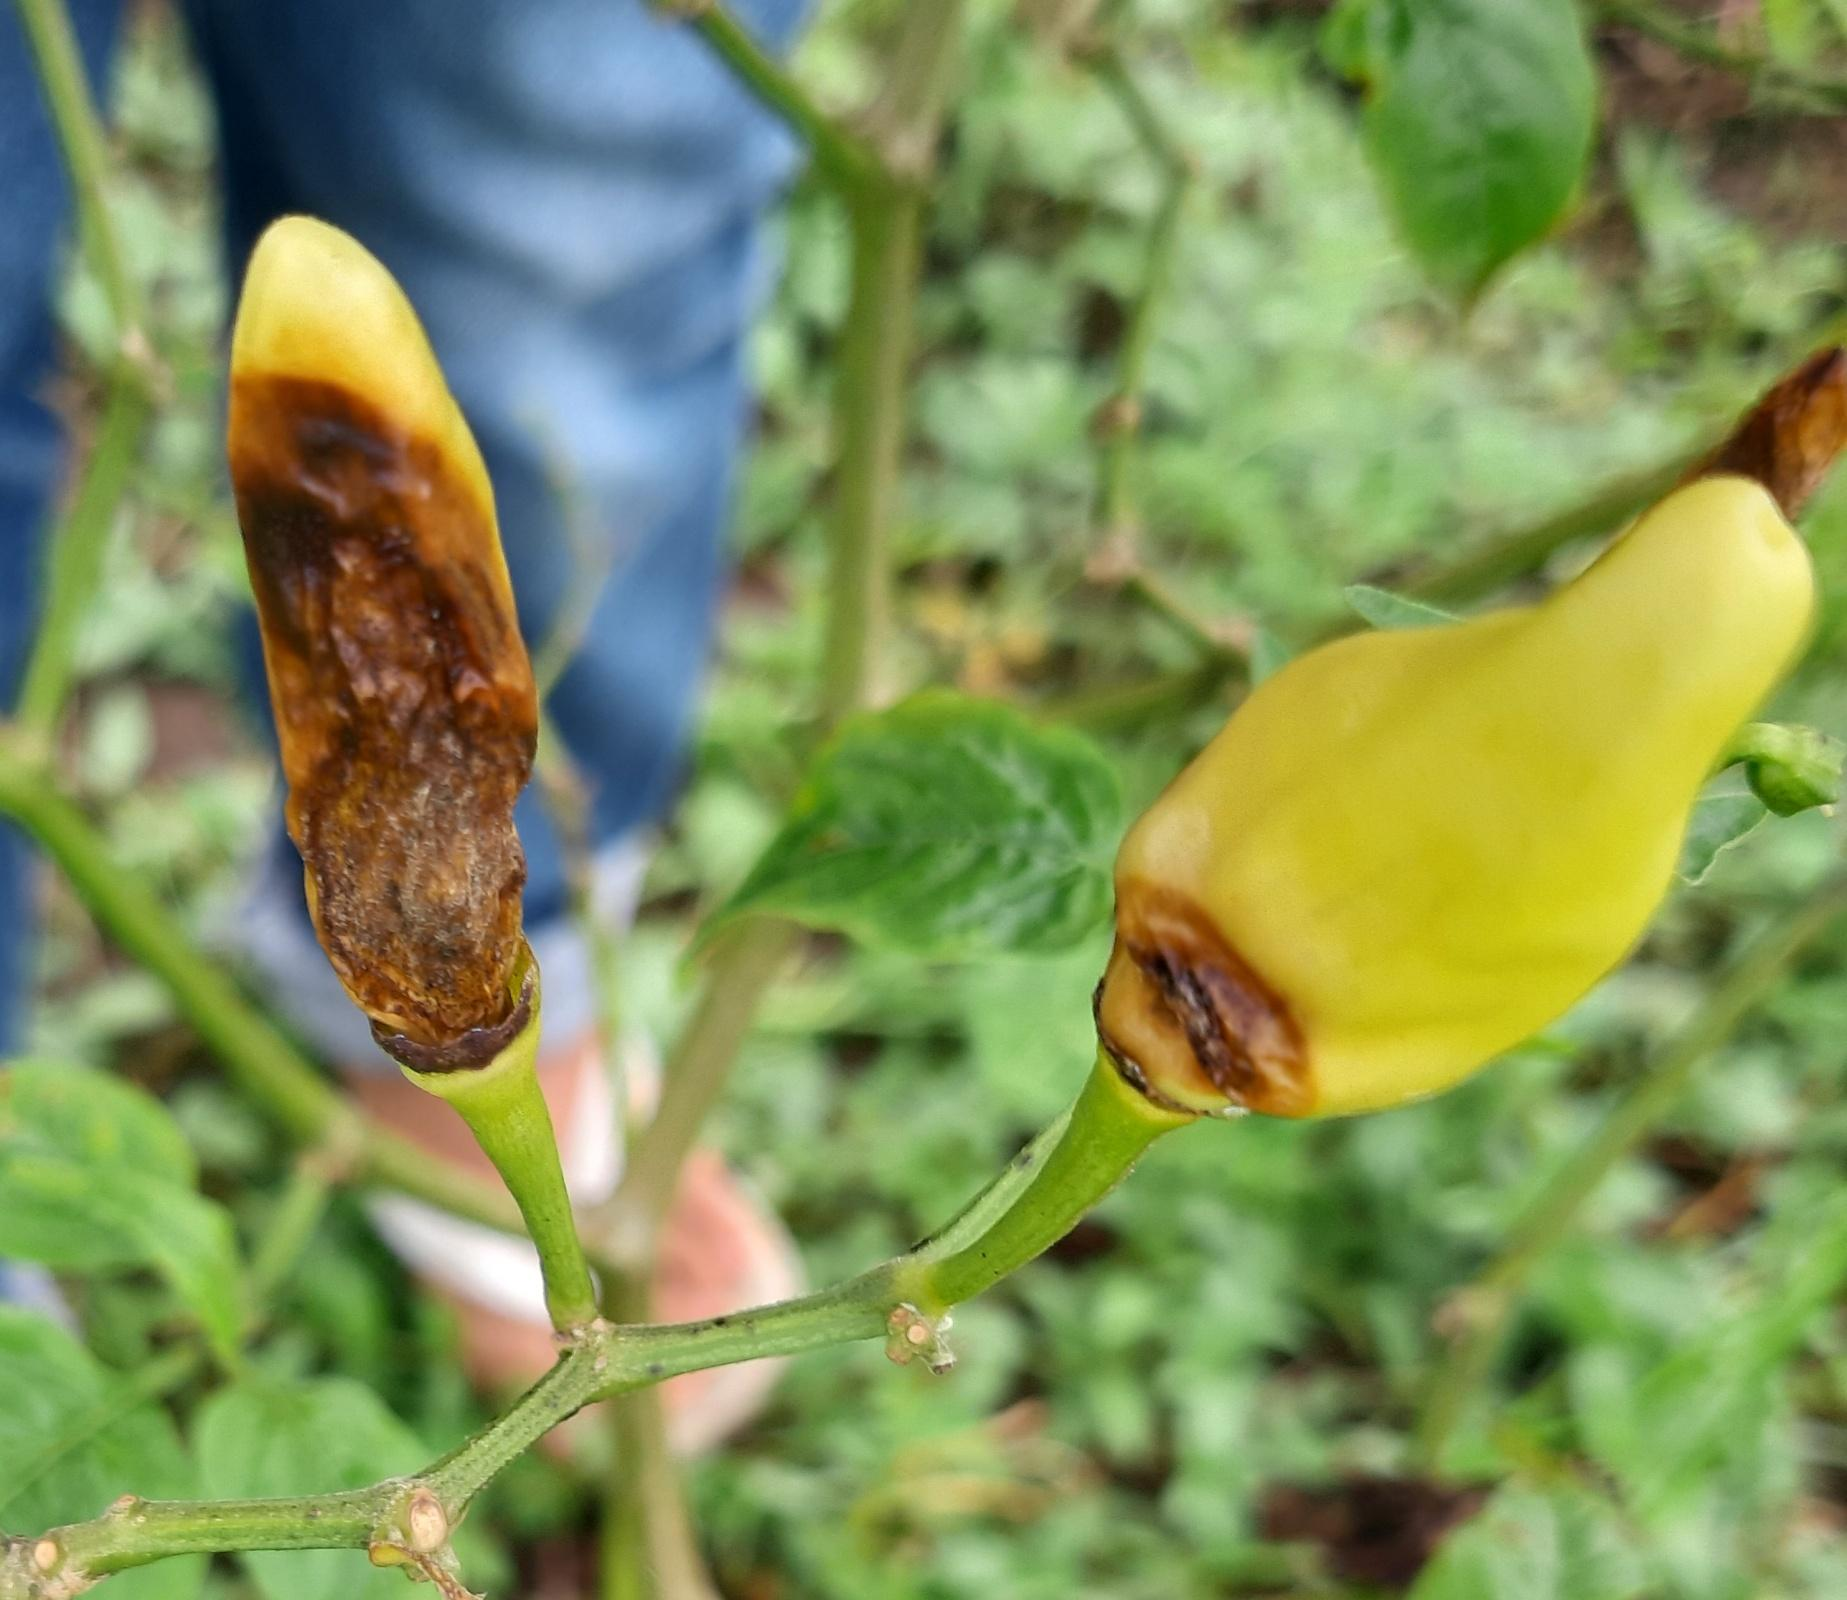antraknosa: (1107, 476, 1808, 1126), (228, 217, 532, 1066)
